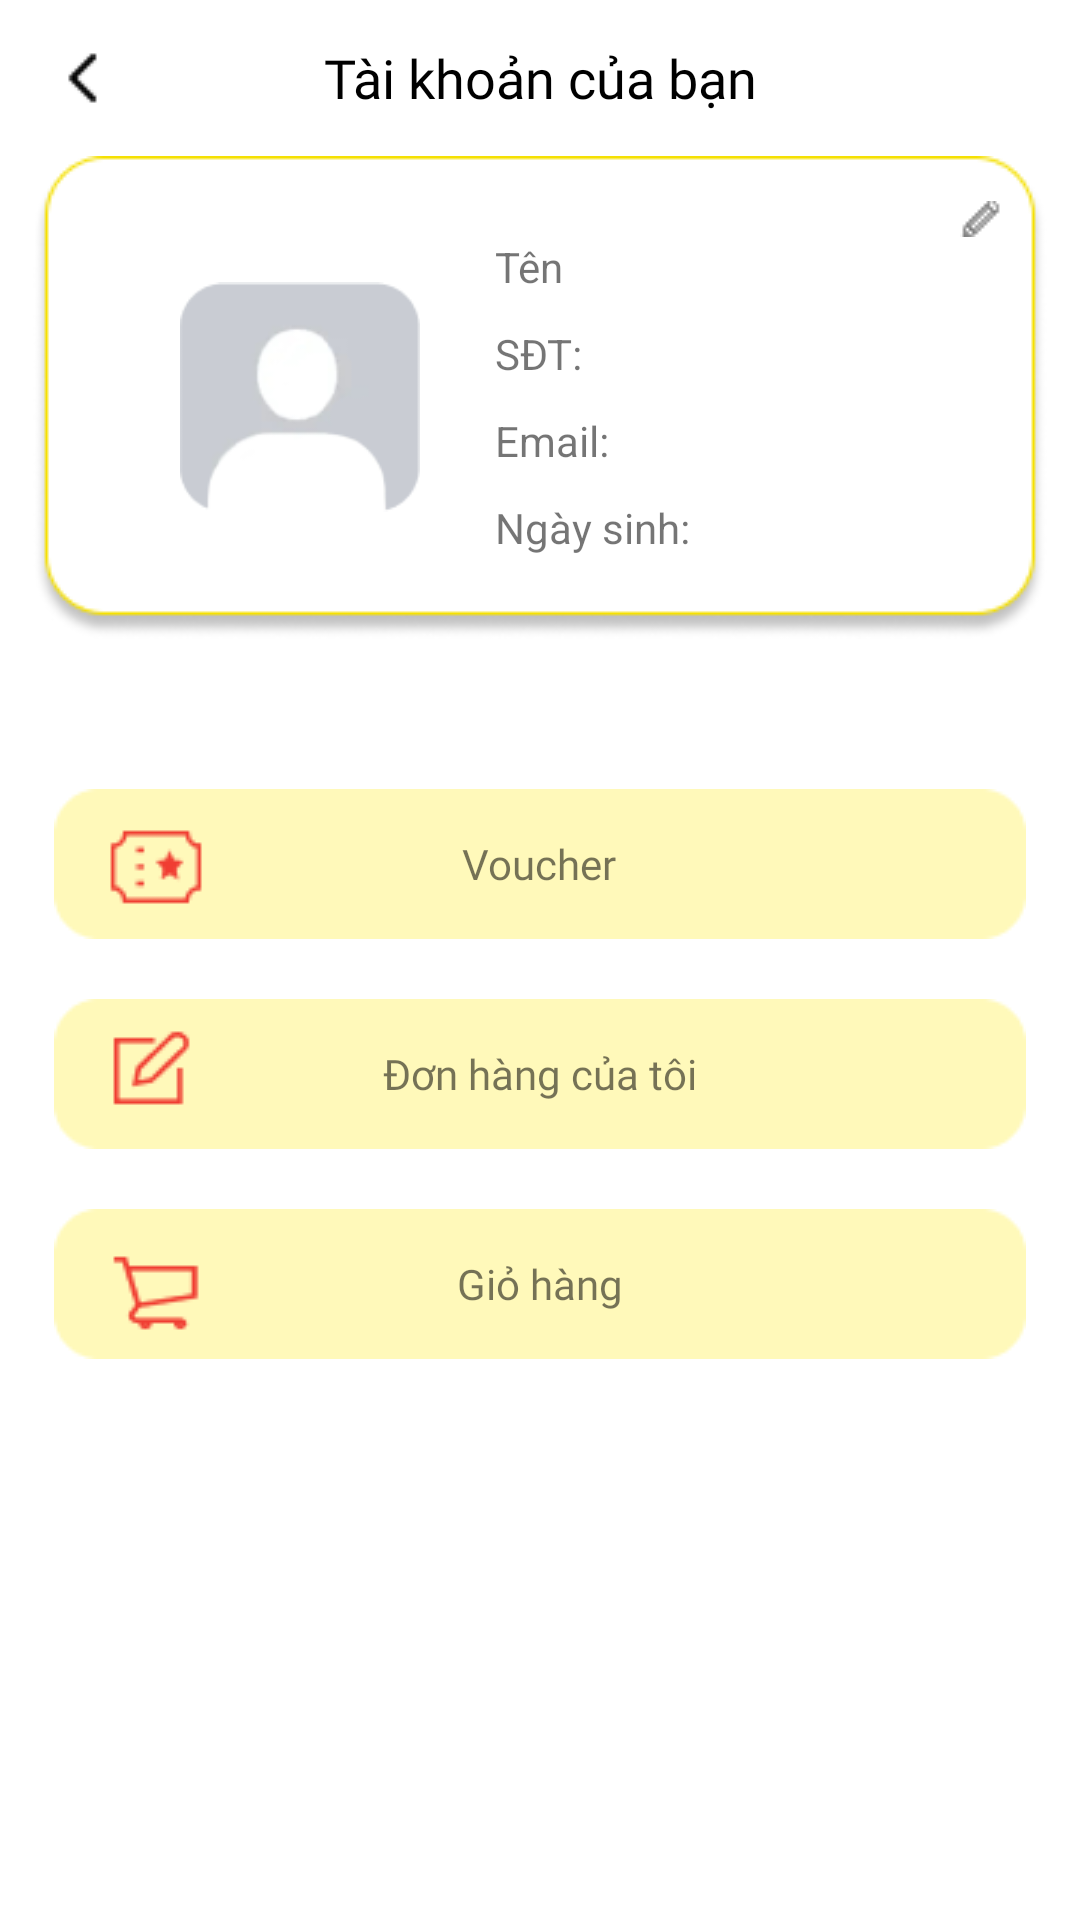

Point at icon controls on the screen. Image size 1080w x 1920h, points as [x,y].
Back: [82,78]
editpencil: [981,219]
user: [300,397]
